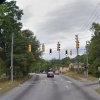Tree: (1, 0, 49, 68)
